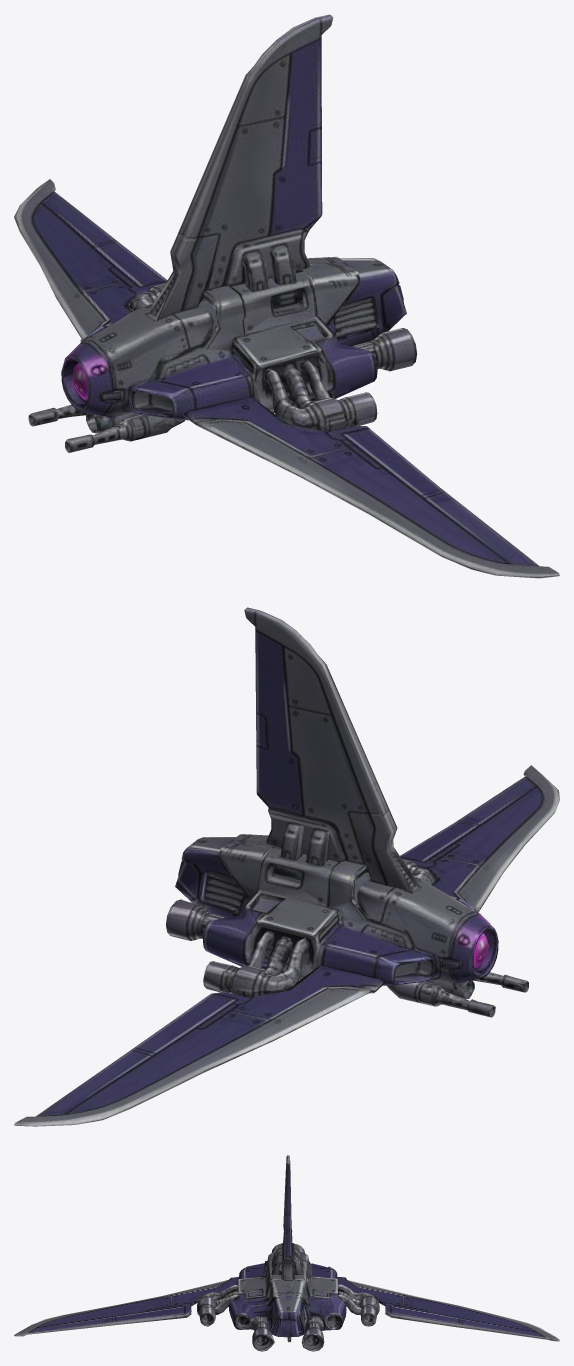
Rendered from drone.glb.
The picture shows the model from 3 angles, top to bottom: view 1: azimuth 30°, elevation 25°; view 2: azimuth 150°, elevation 25°; view 3: azimuth 270°, elevation 25°; orthographic projection. The views are drawn at different scales.
Bounding box in the file's own units: 0.3643 × 0.3599 × 0.958.
1 material, 1 textured.
